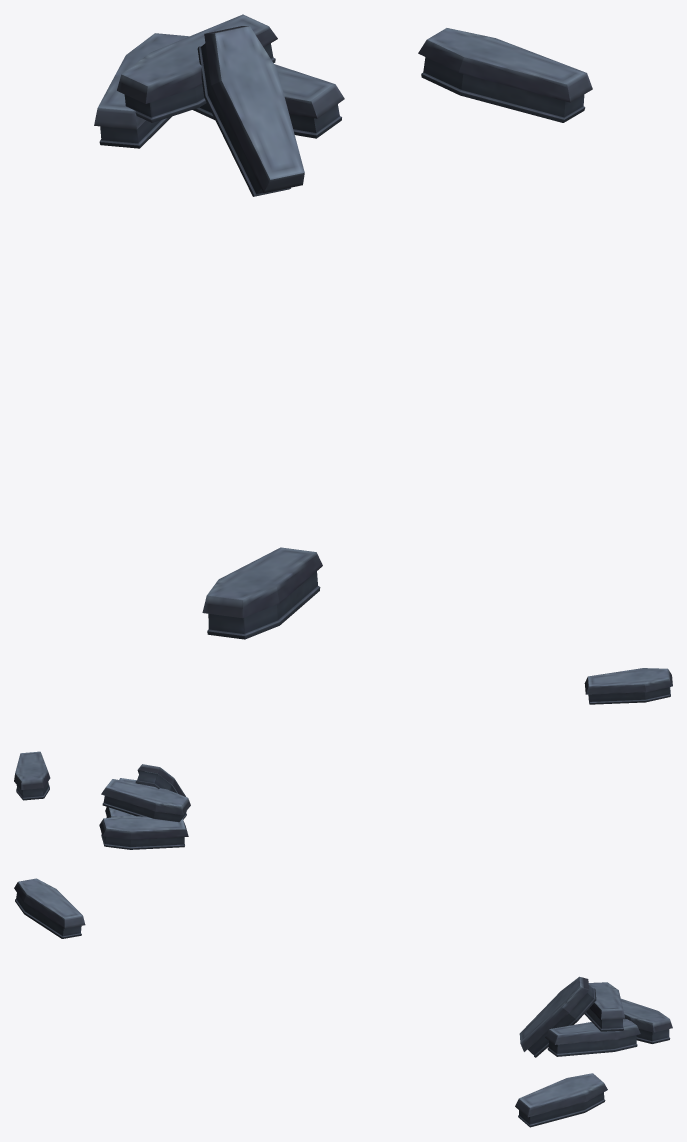
Rendered from Area03_3.fbx.
The picture shows the model from 3 angles, top to bottom: view 1: azimuth 30°, elevation 25°; view 2: azimuth 150°, elevation 25°; view 3: azimuth 270°, elevation 25°; orthographic projection. The views are drawn at different scales.
Parts seen in each view (by area): view 1: Area03_3; view 2: Area03_3; view 3: Area03_3.
Part boxes in pixels (x1,y1,x2,y2): Area03_3: (94, 14, 592, 639); Area03_3: (14, 668, 672, 849); Area03_3: (14, 878, 672, 1127).
Bounding box in the file's own units: 1945 × 295 × 2431.
